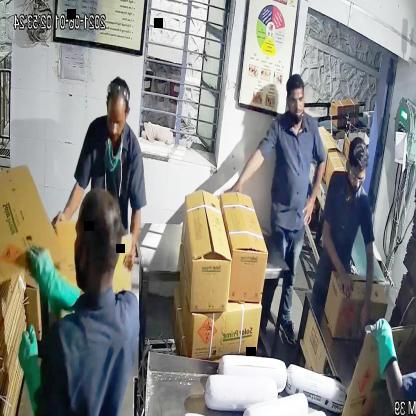goggles: (345, 160, 370, 191)
no_goggles: (283, 90, 310, 112)
